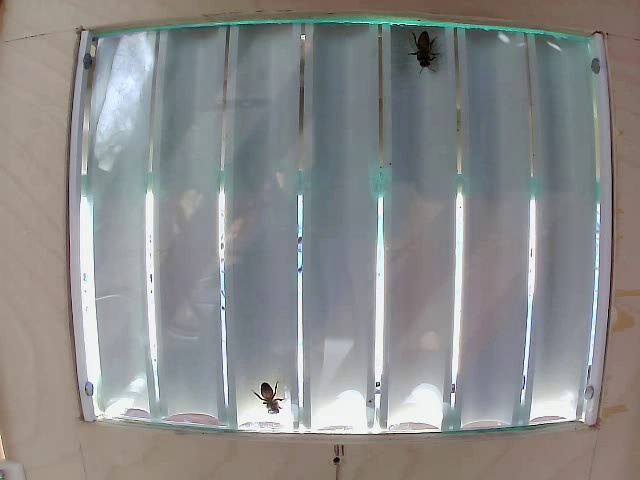bee: (409, 19, 435, 83), (253, 381, 280, 415)
